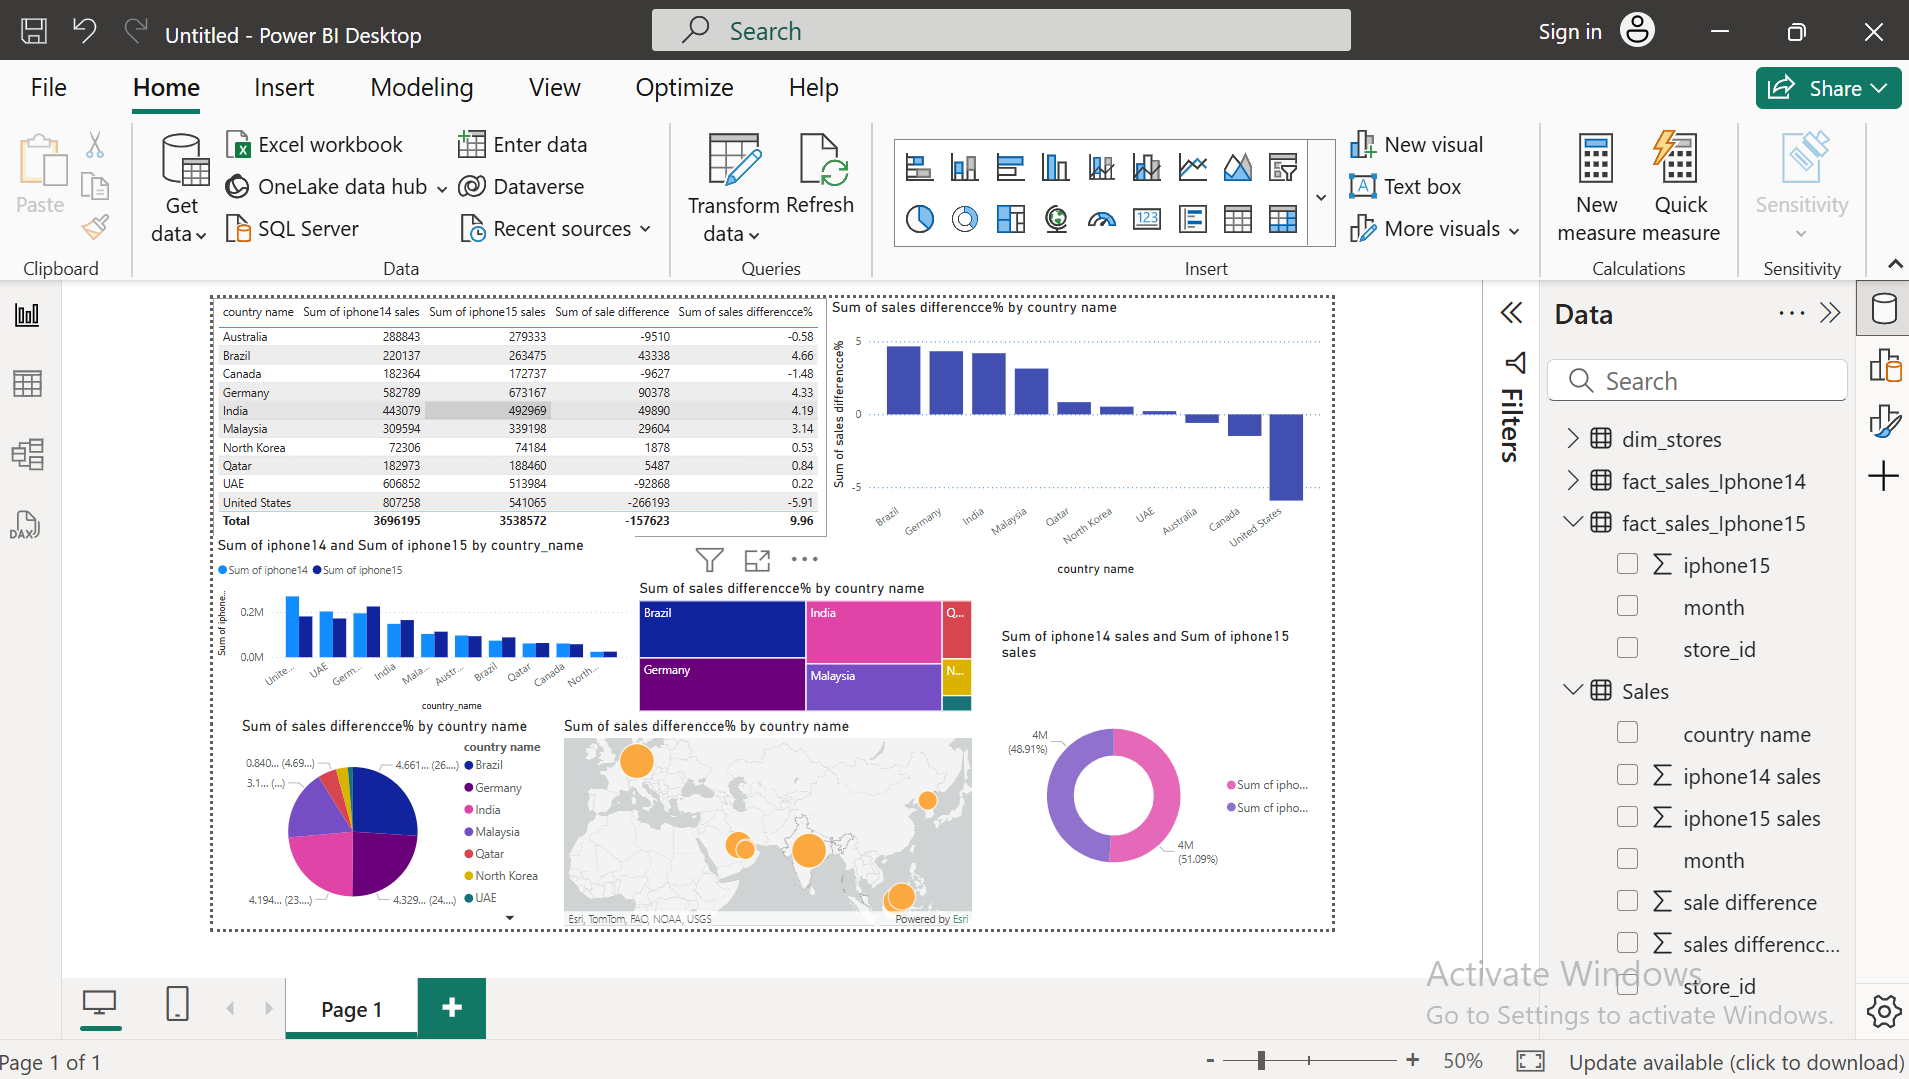

What the dashboard file says about the page in this screenshot:
{"tool":"powerbi","page":{"name":"Page 1","canvas":[1280,720],"ordinal":0},"visuals":[{"type":"tableEx","fields":{"Values":["Sales.country name","Sum(Sales.iphone14 sales)","Sum(Sales.iphone15 sales)","Sum(Sales.sale difference)","Sum(Sales.sales differencce%)"]},"box":[0,0,701.3,273.1],"z":0},{"type":"clusteredColumnChart","fields":{"Category":["dim_stores.country_name"],"Y":["Sum(fact_sales_Iphone14.iphone14)","Sum(fact_sales_Iphone15.iphone15)"]},"box":[0,272.5,482.5,205],"z":1000},{"type":"lineClusteredColumnComboChart","fields":{"Category":["Sales.country name"],"Y":["Sum(Sales.sales differencce%)"]},"box":[702.5,0,570,322.5],"z":2000},{"type":"treemap","fields":{"Group":["Sales.country name"],"Values":["Sum(Sales.sales differencce%)"]},"box":[482.5,322.5,390,155],"z":3000},{"type":"pieChart","fields":{"Category":["Sales.country name"],"Y":["Sum(Sales.sales differencce%)"]},"box":[27.5,477.5,367.5,242.5],"z":4000},{"type":"esriVisual","fields":{"Location":["Sales.country name"],"Size":["Sum(Sales.sales differencce%)"]},"box":[395,477.5,477.5,242.5],"z":5000},{"type":"donutChart","fields":{"Y":["Sum(Sales.iphone14 sales)","Sum(Sales.iphone15 sales)"]},"box":[895,375,377.5,345],"z":5001}]}

Visuals, with their boxes on the page's 1280x720 design canvas (x1, y1, x2, y2). These are canvas units, not pixel positions in the 1909x1079 screenshot, which may show the page scaled, cropped or inside an application window:
tableEx - Sales.country name x Sum(Sales.iphone14 sales): 0,0,701,273
clusteredColumnChart - dim_stores.country_name x Sum(fact_sales_Iphone14.iphone14): 0,272,482,478
lineClusteredColumnComboChart - Sales.country name x Sum(Sales.sales differencce%): 702,0,1272,322
treemap - Sales.country name x Sum(Sales.sales differencce%): 482,322,872,478
pieChart - Sales.country name x Sum(Sales.sales differencce%): 28,478,395,720
esriVisual - Sales.country name x Sum(Sales.sales differencce%): 395,478,872,720
donutChart - Sum(Sales.iphone14 sales) x Sum(Sales.iphone15 sales): 895,375,1272,720
